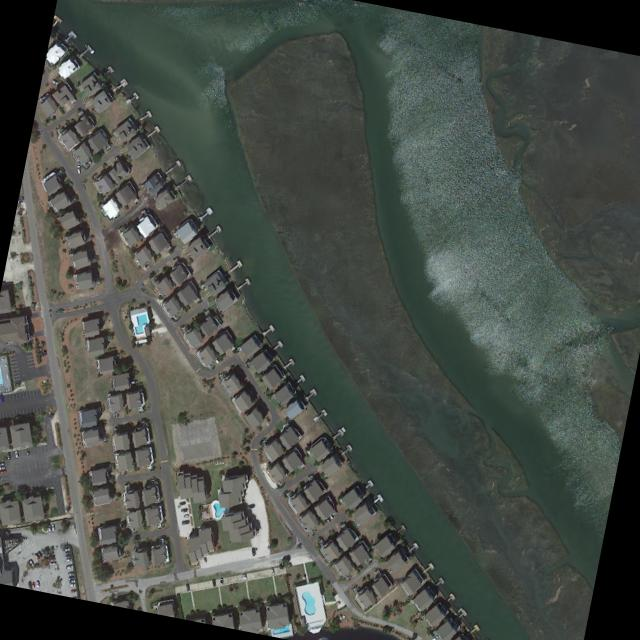small-vehicle: (245, 503, 255, 510), (51, 79, 58, 86), (250, 547, 255, 556), (213, 357, 219, 364), (0, 483, 8, 488), (180, 520, 188, 525), (178, 501, 185, 506), (269, 568, 274, 575), (430, 635, 437, 640), (48, 557, 55, 562), (33, 553, 38, 560), (36, 551, 41, 558), (39, 549, 44, 556), (13, 451, 18, 458), (28, 559, 33, 566), (67, 575, 74, 580), (185, 583, 189, 591), (179, 509, 187, 513), (25, 448, 29, 456), (35, 580, 39, 588), (62, 548, 69, 552), (218, 578, 222, 585), (64, 558, 71, 562), (65, 565, 72, 569), (6, 452, 10, 459), (129, 380, 136, 384), (67, 583, 74, 587), (67, 572, 74, 576), (76, 165, 79, 174), (0, 395, 3, 403), (49, 562, 55, 566), (51, 523, 54, 531), (70, 589, 76, 593), (243, 573, 246, 580), (211, 579, 214, 586), (67, 580, 74, 583), (0, 470, 5, 474), (65, 555, 71, 558), (31, 582, 34, 588), (0, 462, 4, 466), (0, 466, 4, 470), (64, 551, 69, 554), (203, 557, 205, 562)
